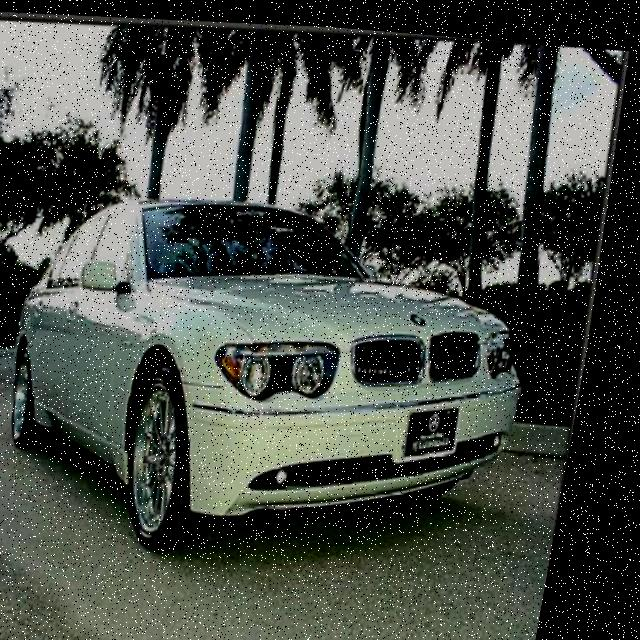license_plate: (414, 394, 476, 452)
